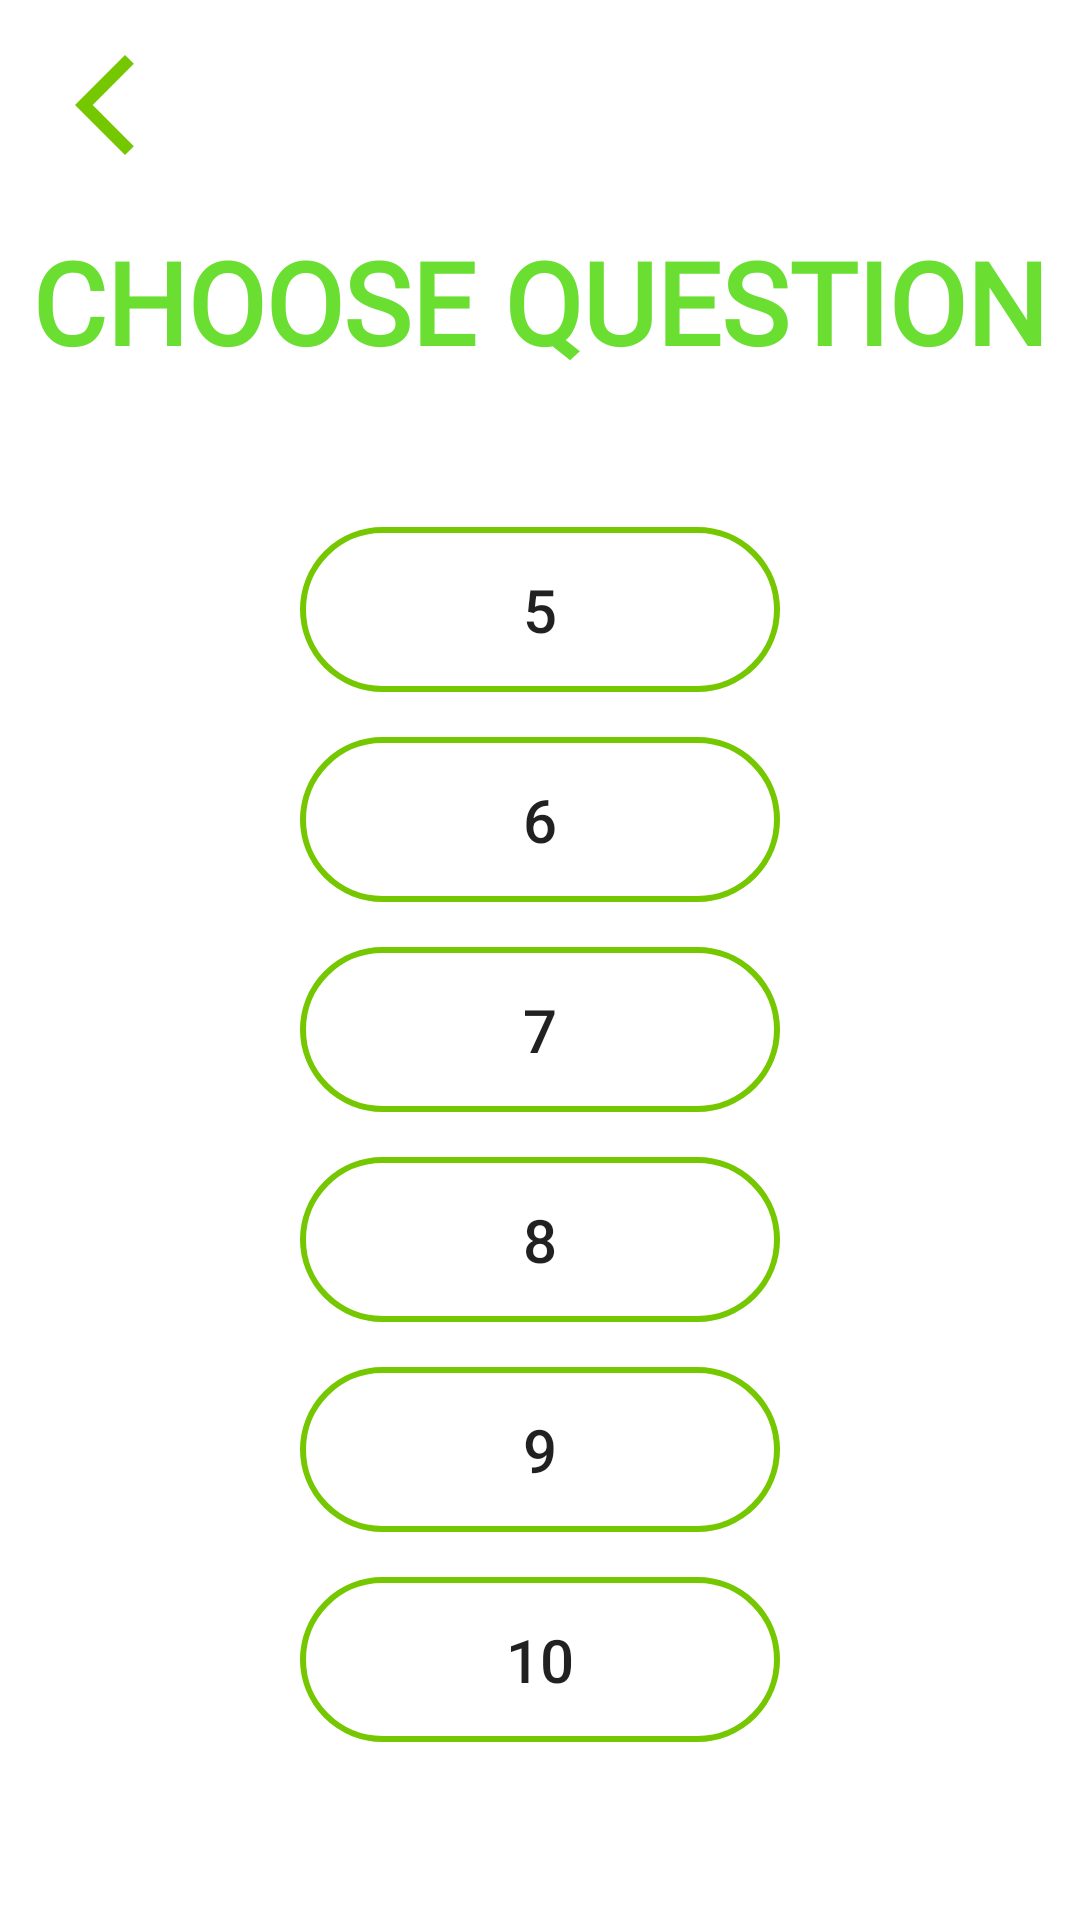

Screen size 1080×1920. Icon name, then its center in pixels as point (x, y):
back: point (104, 105)
